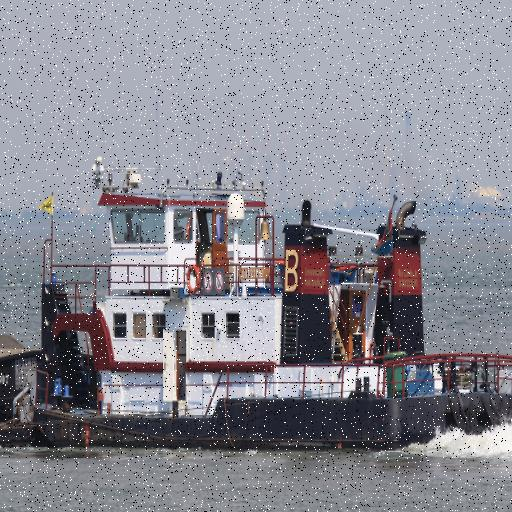tugboat: (37, 153, 512, 464)
